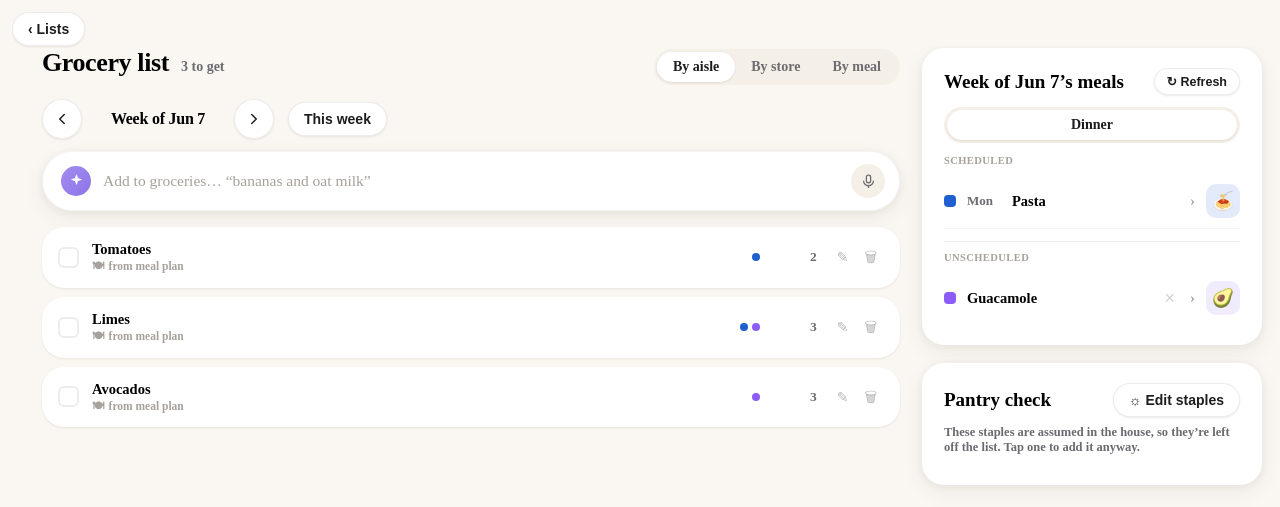
Test: GroceryBoard unscheduled recipes (By meal view) › renders an item shared by a planned and an unscheduled recipe only once, under the planned meal
Expected: the text "Limes" is shown, [92, 311, 130, 327]
Click the button "By meal" at (857, 67), box [816, 52, 897, 82]
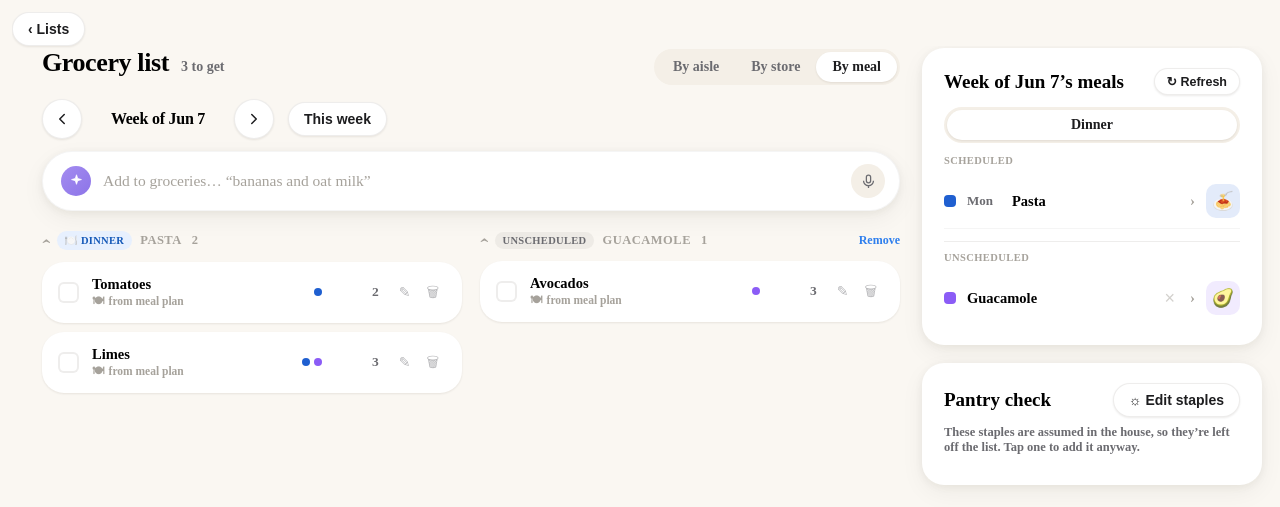
Expected: the text "Limes" is shown once, [92, 346, 130, 362]
Result: the text "Pasta" shows "Limes" at [92, 346, 130, 362]
Result: the text "Guacamole" shows "Avocados" at [530, 275, 588, 291]
